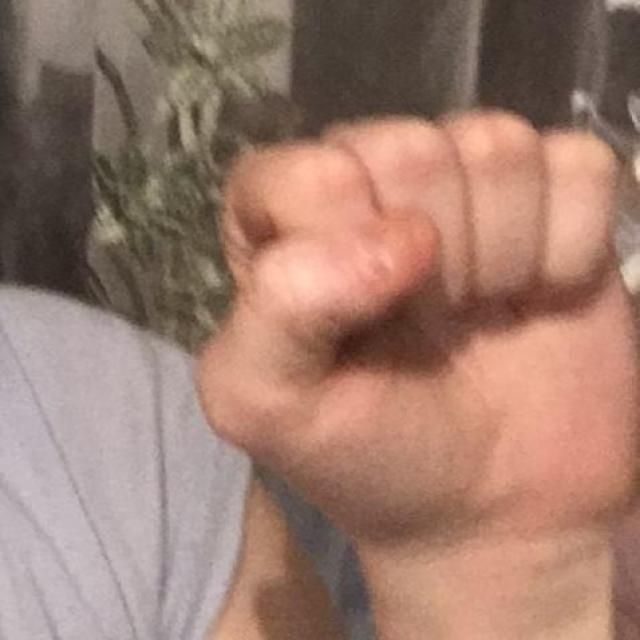hand: (190, 105, 639, 545)
